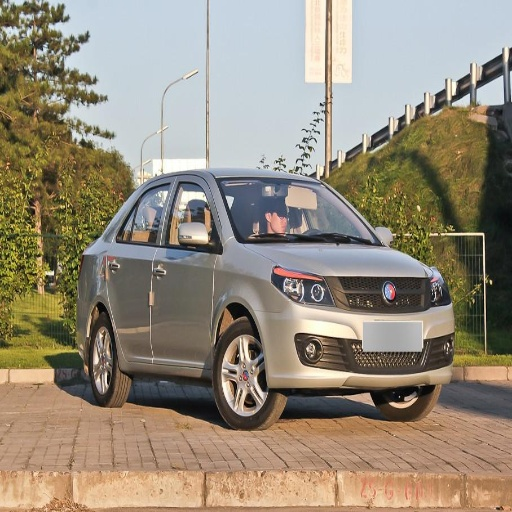front_bumper: (260, 275, 453, 389)
front_right_door: (155, 174, 219, 365)
front_right_light: (273, 269, 331, 305)
